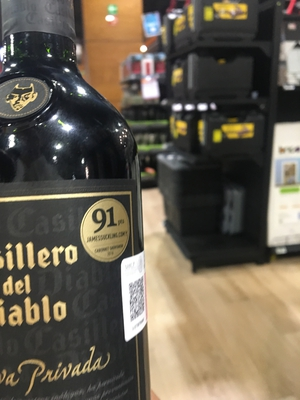casillero del diablo reserva privada cabernet sauvignon: (2, 15, 159, 400)
